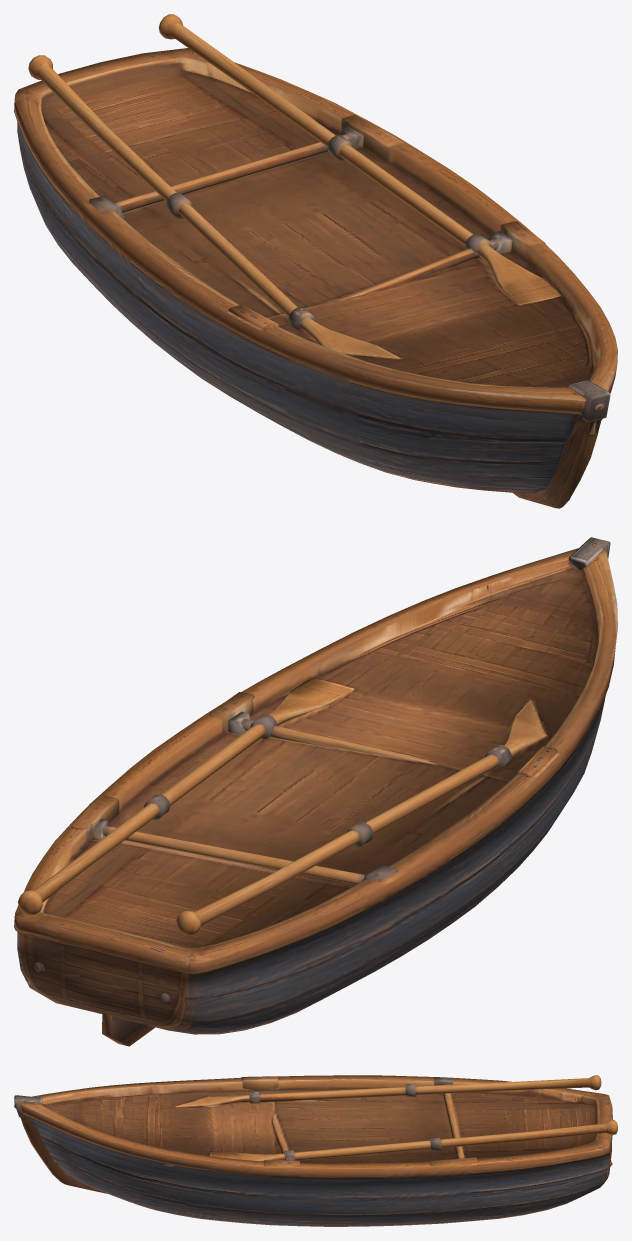
File: Furn_Boat.fbx
3 renders of one model, top to bottom at view 1: azimuth 30°, elevation 25°; view 2: azimuth 150°, elevation 25°; view 3: azimuth 270°, elevation 25°, orthographic. The views are drawn at different scales.
Parts seen in each view (by area): view 1: Furn_Boat; view 2: Furn_Boat; view 3: Furn_Boat.
Part boxes in pixels (left/top/right/bottom): Furn_Boat: left=14, top=14, right=617, bottom=508; Furn_Boat: left=14, top=537, right=617, bottom=1046; Furn_Boat: left=14, top=1075, right=617, bottom=1226.
Bounding box in the file's own units: 1.48 × 0.7093 × 4.
Materials: 1 (1 with a texture image).
